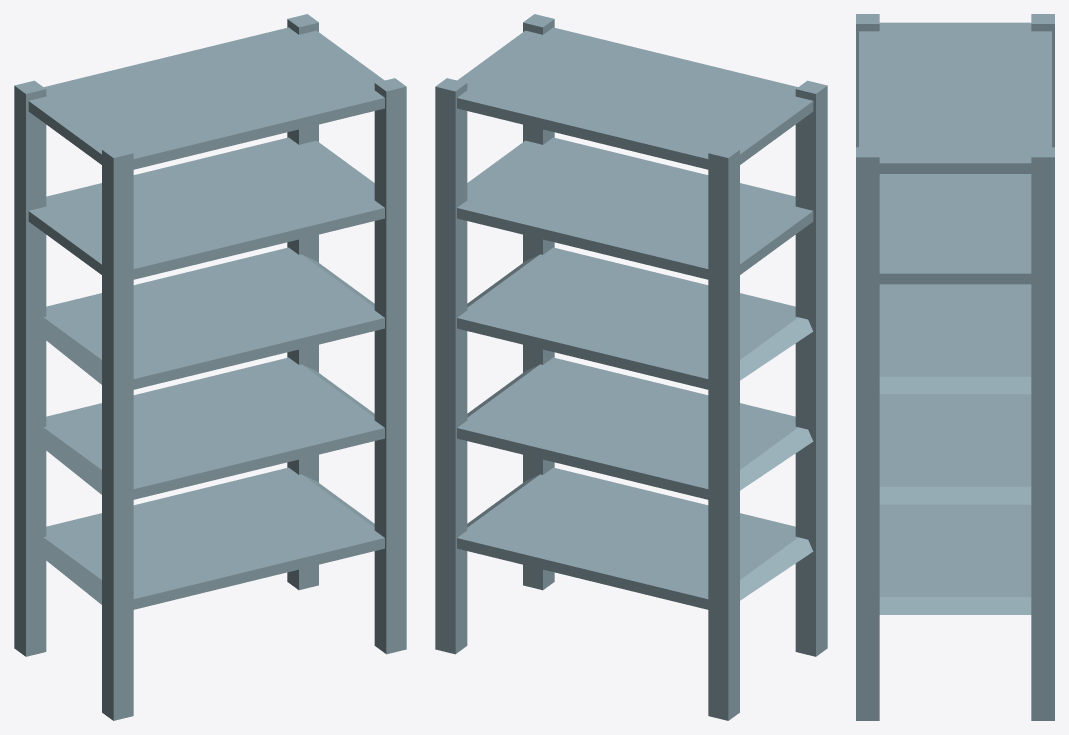
Rendered from SM_Shelf.fbx.
3 renders of one model, left to right at view 1: azimuth 30°, elevation 25°; view 2: azimuth 150°, elevation 25°; view 3: azimuth 270°, elevation 25°, orthographic.
Parts seen in each view (by area): view 1: SM_Shelf; view 2: SM_Shelf; view 3: SM_Shelf.
Boxes of the visible parts, box(x1,y1,x2,y2) form: SM_Shelf: box(14, 14, 406, 720); SM_Shelf: box(435, 14, 827, 720); SM_Shelf: box(856, 14, 1054, 720).
Size of the model in its own units: 0.969 by 1.78 by 0.568.
1 material, 1 textured.
